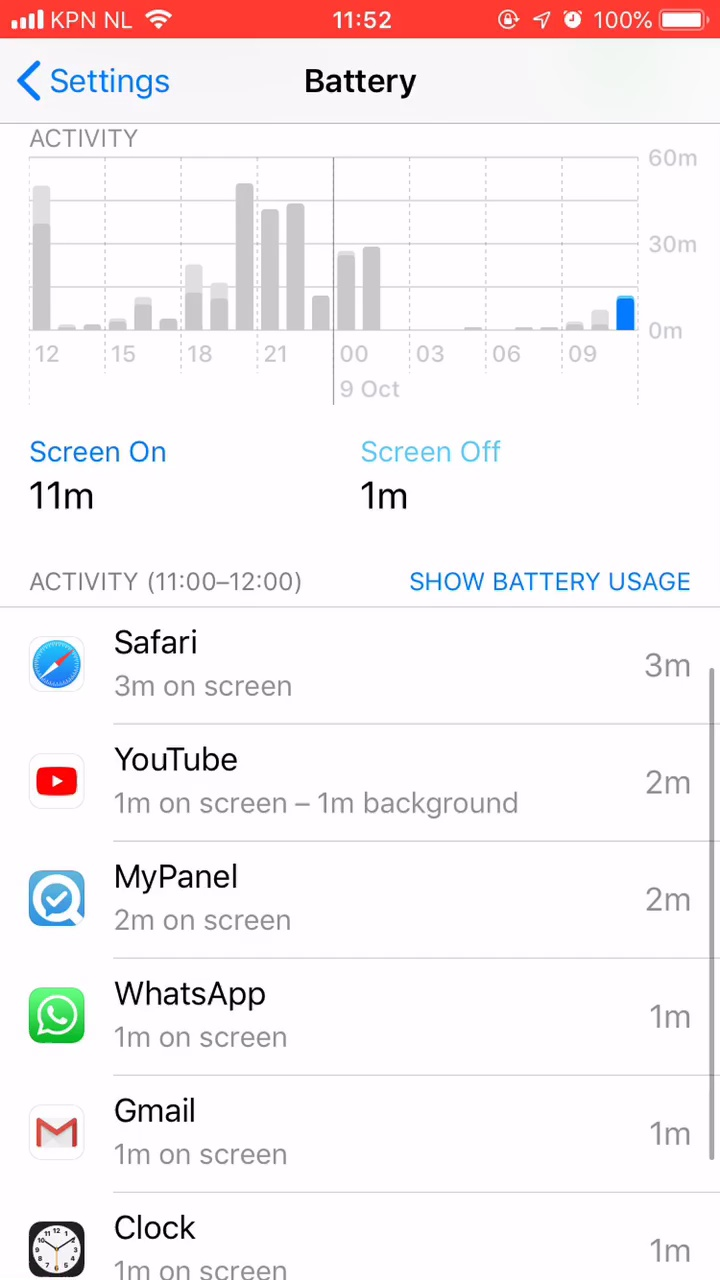activity: (28, 557, 324, 599)
app: (26, 861, 696, 941), (25, 973, 695, 1053), (24, 1095, 694, 1175), (33, 742, 696, 821)
